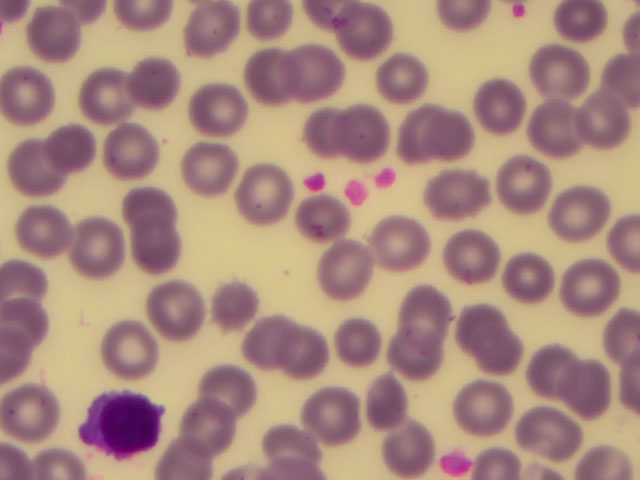Platelets: (432, 445, 477, 480), (367, 160, 402, 195), (337, 177, 371, 205), (300, 167, 329, 195)
RBC: (44, 117, 113, 191), (7, 134, 76, 208), (104, 121, 173, 195), (69, 61, 138, 135), (121, 50, 190, 124), (179, 70, 248, 144), (177, 1, 246, 75), (232, 40, 301, 114), (291, 40, 360, 114), (334, 7, 403, 81), (370, 48, 439, 122), (425, 98, 494, 172), (381, 88, 450, 162), (328, 86, 397, 160), (296, 89, 365, 163), (176, 131, 245, 205), (231, 152, 300, 226), (126, 214, 195, 288), (114, 163, 183, 237), (67, 209, 136, 283), (17, 196, 86, 270), (95, 311, 164, 385), (140, 276, 209, 350), (188, 272, 257, 346), (223, 296, 292, 370), (275, 318, 344, 392), (328, 309, 397, 383), (315, 238, 384, 312), (289, 201, 358, 275), (371, 211, 440, 285), (424, 158, 493, 232), (485, 147, 554, 221), (470, 73, 539, 147), (520, 96, 589, 170), (525, 40, 594, 114), (571, 93, 640, 167), (18, 1, 87, 74), (1, 62, 69, 136), (547, 180, 614, 246), (495, 245, 562, 311), (438, 226, 505, 292), (561, 255, 628, 321), (564, 358, 631, 424), (516, 335, 583, 401), (449, 379, 516, 445), (521, 399, 588, 465), (480, 325, 547, 391), (452, 293, 519, 359), (394, 280, 461, 346), (387, 321, 454, 387), (363, 367, 430, 433), (376, 414, 443, 480), (301, 387, 368, 453), (257, 404, 324, 470), (195, 354, 262, 420), (183, 388, 250, 454), (159, 414, 226, 480), (1, 387, 67, 453), (1, 294, 54, 349), (550, 1, 612, 42), (502, 1, 539, 21)
WBC: (75, 385, 162, 463)
